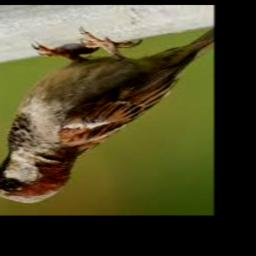Sparrow: (0, 27, 214, 204)
